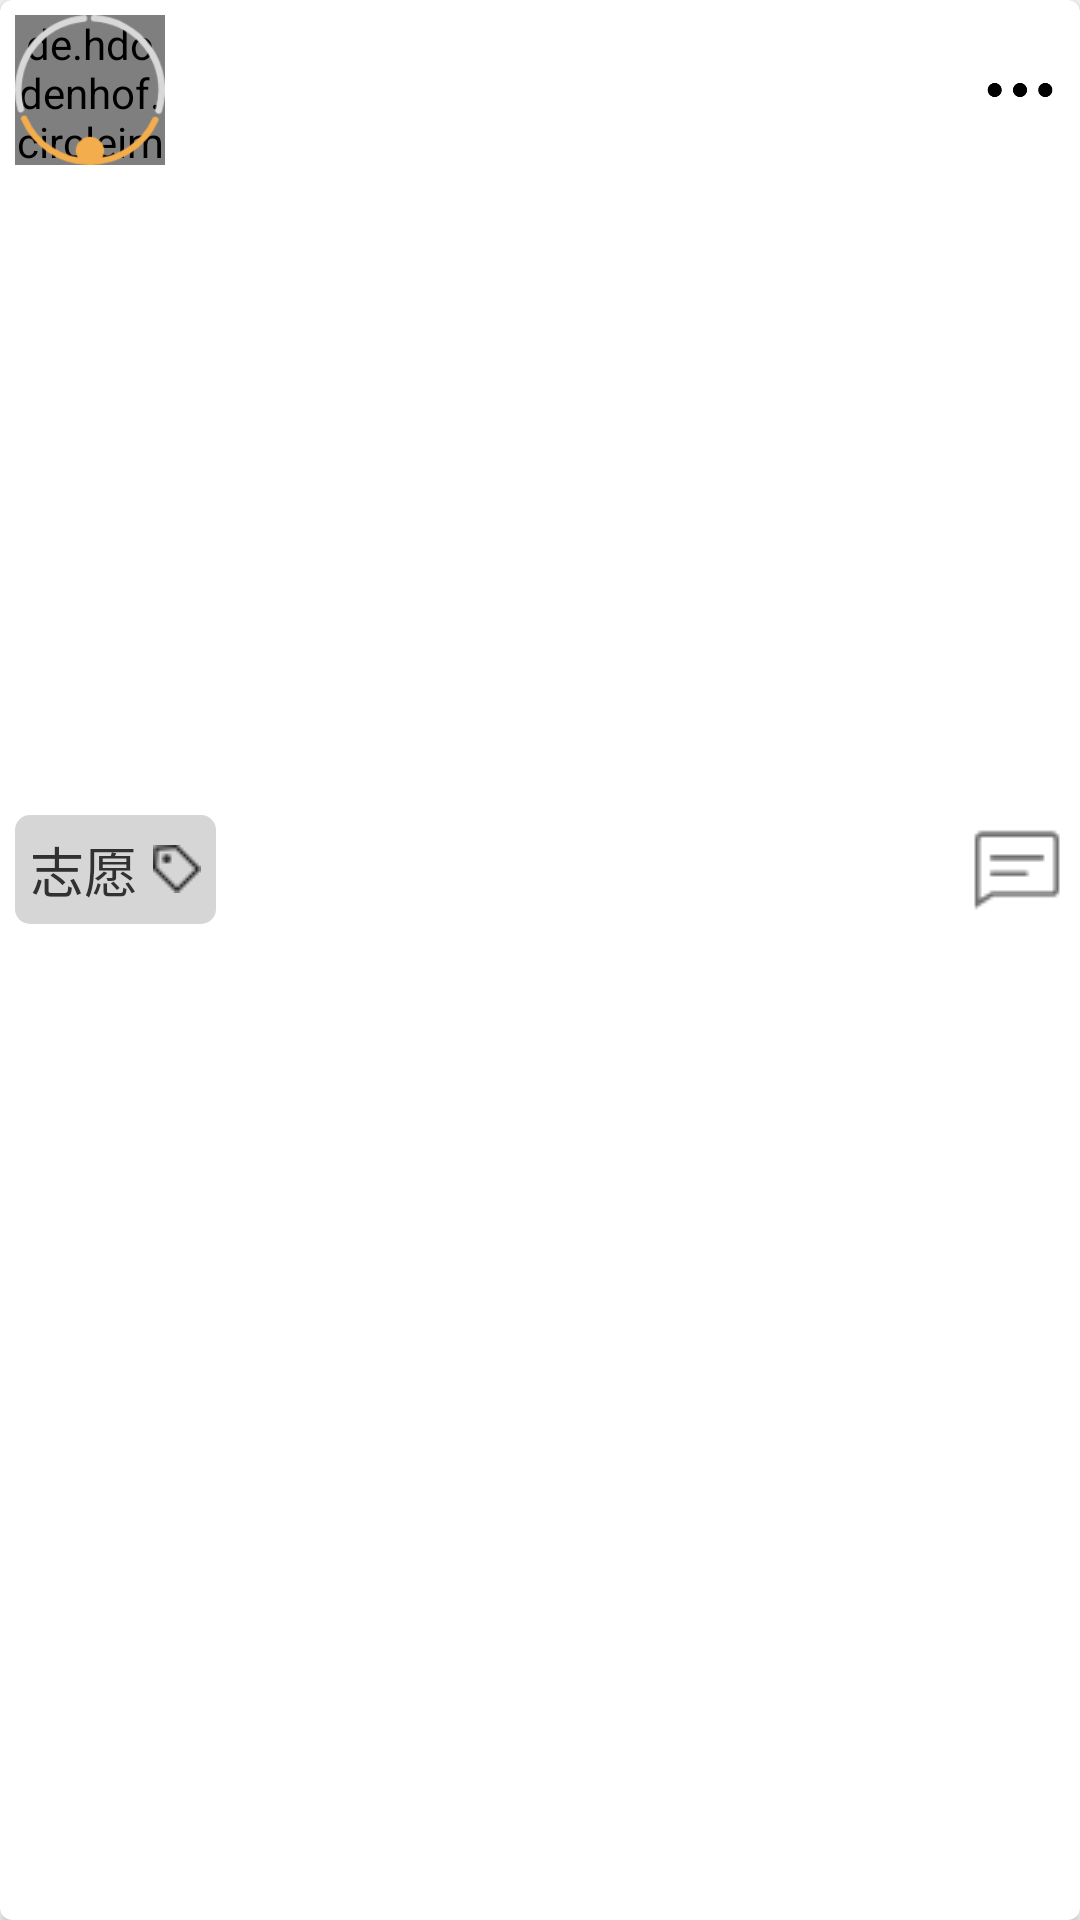

Screen size 1080x1920. Icon name, then its box in pixels as (x1, y1, x2, y2):
more: (987, 83, 1053, 97)
post comment: (974, 830, 1060, 909)
